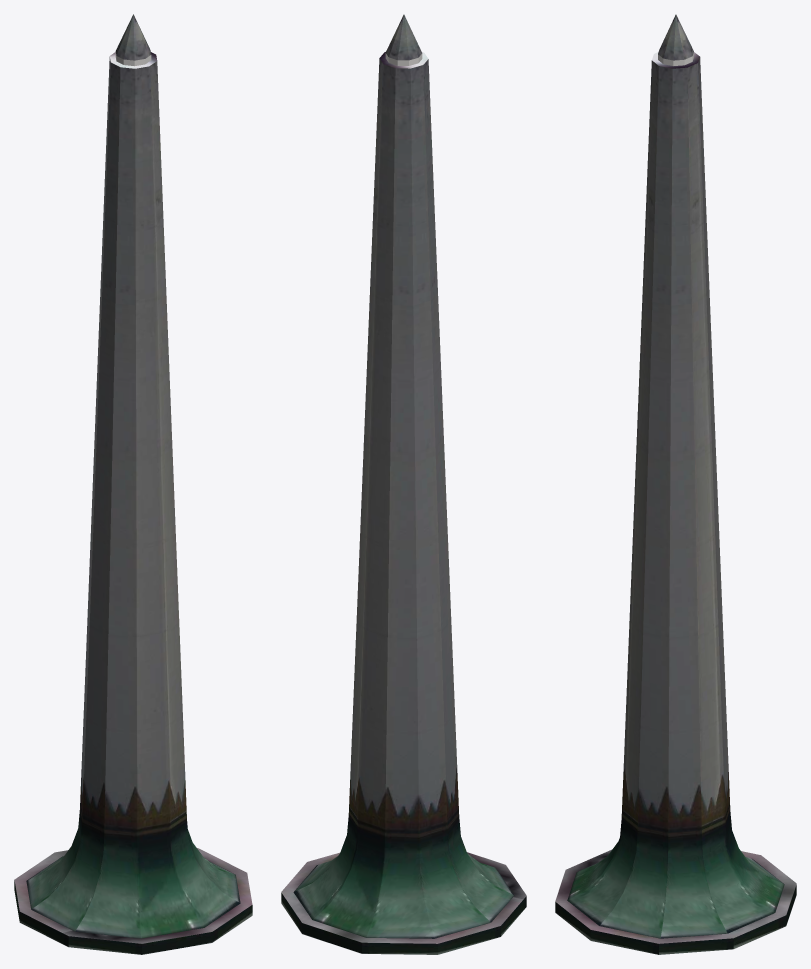
File: tugupahlawan (2).obj
The picture shows the model from 3 angles, left to right: view 1: azimuth 30°, elevation 25°; view 2: azimuth 150°, elevation 25°; view 3: azimuth 270°, elevation 25°; orthographic projection.
Parts seen in each view (by area): view 1: Mesh22 Group9 Group1 Model, Mesh4 Group3 Group1 Model, Mesh25 Group10 Group1 Model, Mesh7 Group4 Group1 Model, Mesh19 Group8 Group1 Model, Mesh31 Group1 Model, Mesh16 Group7 Group1 Model, Mesh24 Group9 Group1 Model, Mesh6 Group3 Group1 Model, Mesh27 Group10 Group1 Model; view 2: Mesh28 Group11 Group1 Model, Mesh19 Group8 Group1 Model, Mesh10 Group5 Group1 Model, Mesh25 Group10 Group1 Model, Mesh1 Group2 Group1 Model, Mesh31 Group1 Model, Mesh30 Group11 Group1 Model, Mesh21 Group8 Group1 Model, Mesh12 Group5 Group1 Model; view 3: Mesh13 Group6 Group1 Model, Mesh16 Group7 Group1 Model, Mesh1 Group2 Group1 Model, Mesh7 Group4 Group1 Model, Mesh10 Group5 Group1 Model, Mesh31 Group1 Model, Mesh15 Group6 Group1 Model, Mesh18 Group7 Group1 Model, Mesh4 Group3 Group1 Model, Mesh3 Group2 Group1 Model.
Part boxes in pixels (x1,y1,x2,y2): Mesh22 Group9 Group1 Model: (75,67,141,938); Mesh4 Group3 Group1 Model: (135,66,203,938); Mesh25 Group10 Group1 Model: (31,62,120,931); Mesh7 Group4 Group1 Model: (149,61,240,927); Mesh19 Group8 Group1 Model: (26,57,110,909); Mesh31 Group1 Model: (14,848,252,943); Mesh16 Group7 Group1 Model: (188,830,240,903); Mesh24 Group9 Group1 Model: (68,936,141,954); Mesh6 Group3 Group1 Model: (142,932,212,954); Mesh27 Group10 Group1 Model: (19,912,68,946); Mesh28 Group11 Group1 Model: (366,68,434,938); Mesh19 Group8 Group1 Model: (410,65,490,938); Mesh10 Group5 Group1 Model: (313,64,395,937); Mesh25 Group10 Group1 Model: (423,59,514,922); Mesh1 Group2 Group1 Model: (293,58,383,919); Mesh31 Group1 Model: (281,852,526,943); Mesh30 Group11 Group1 Model: (362,942,437,954); Mesh21 Group8 Group1 Model: (438,926,500,954); Mesh12 Group5 Group1 Model: (302,923,361,953); Mesh13 Group6 Group1 Model: (660,67,727,938); Mesh16 Group7 Group1 Model: (599,66,672,938); Mesh1 Group2 Group1 Model: (687,63,774,933); Mesh7 Group4 Group1 Model: (567,60,658,925); Mesh10 Group5 Group1 Model: (698,57,784,912); Mesh31 Group1 Model: (555,849,796,943); Mesh15 Group6 Group1 Model: (659,938,733,954); Mesh18 Group7 Group1 Model: (590,930,658,954); Mesh4 Group3 Group1 Model: (567,838,619,900); Mesh3 Group2 Group1 Model: (733,915,786,948).
Size of what is drawn, in the model's own units: 9.9 by 40 by 9.85.
